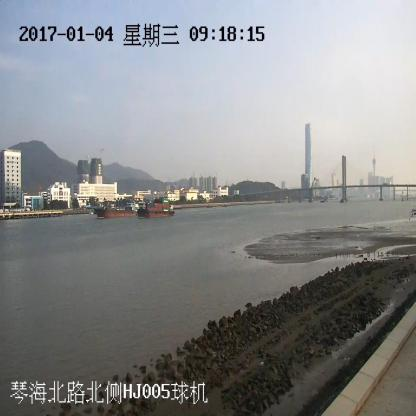Container Ship: (138, 199, 174, 218)
